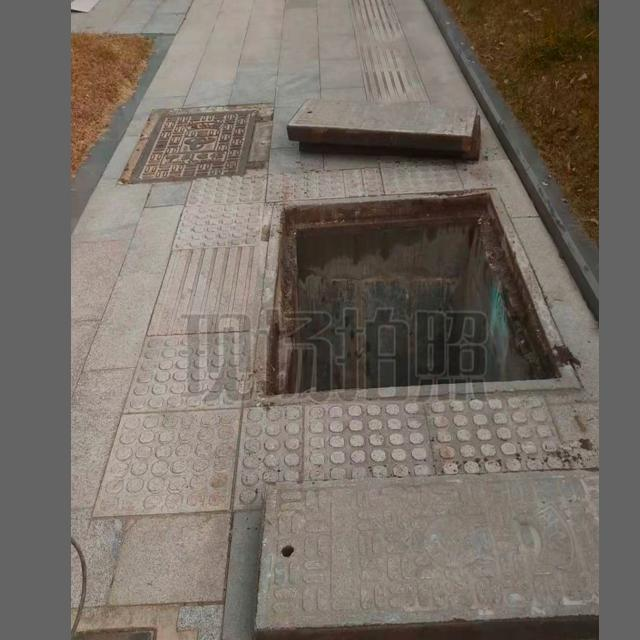good: (117, 97, 270, 179)
uncovered: (253, 97, 599, 640)
